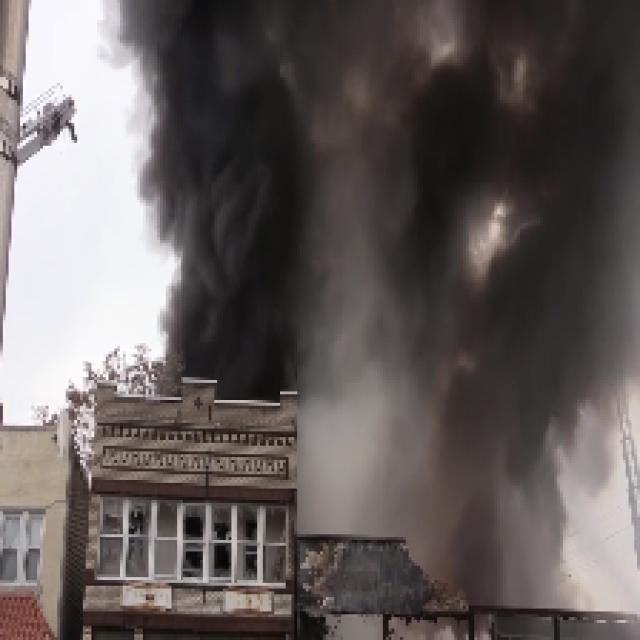Smoke: (202, 11, 548, 511)
